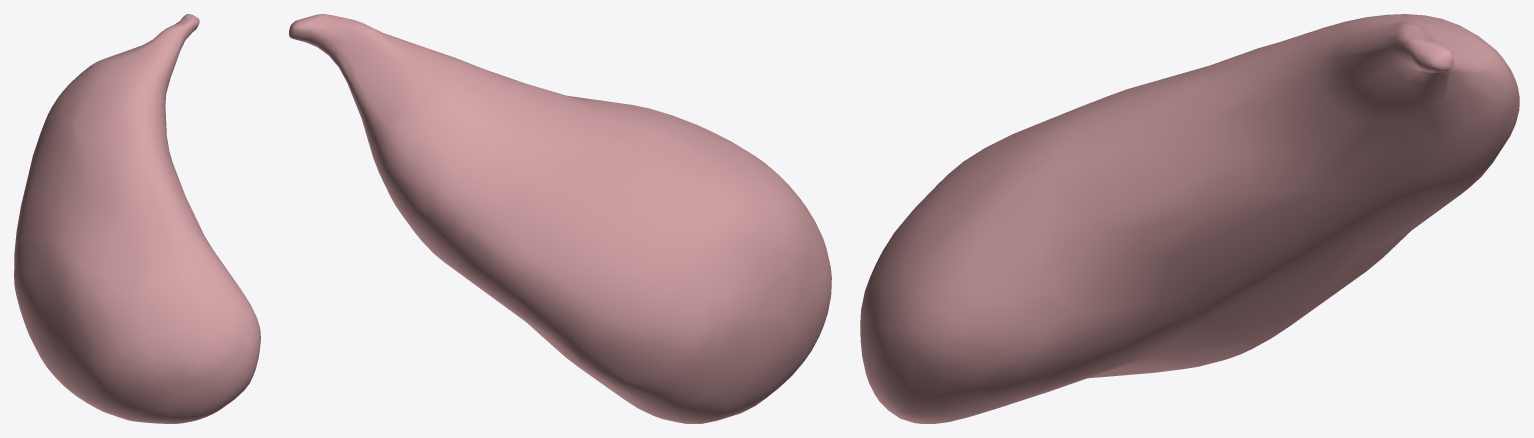
Rendered from fma7202_fj2817.glb.
The picture shows the model from 3 angles, left to right: view 1: azimuth 30°, elevation 25°; view 2: azimuth 150°, elevation 25°; view 3: azimuth 270°, elevation 25°; orthographic projection. The views are drawn at different scales.
Visible parts, largest first — view 1: FMA7202_FJ2817; view 2: FMA7202_FJ2817; view 3: FMA7202_FJ2817.
Boxes of the visible parts, box(x1,y1,x2,y2) form: FMA7202_FJ2817: box(14, 14, 260, 423); FMA7202_FJ2817: box(289, 14, 831, 423); FMA7202_FJ2817: box(860, 14, 1519, 423).
Bounding box in the file's own units: 0.0364 × 0.0404 × 0.0484.
